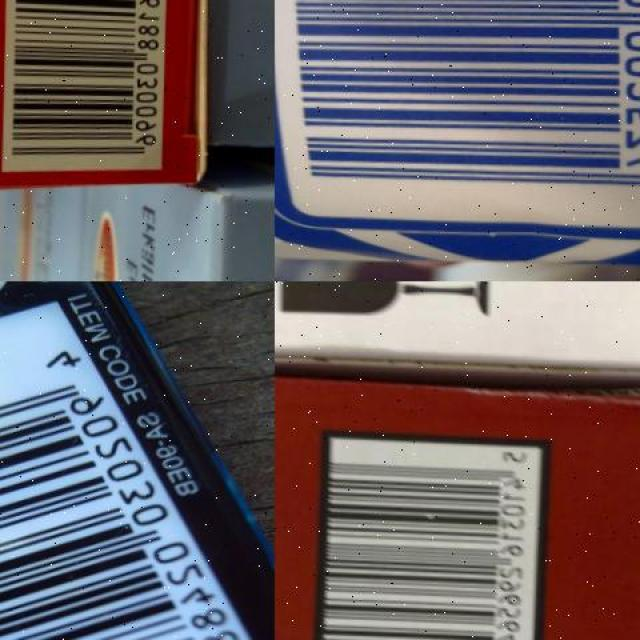Barcode: (0, 289, 275, 640), (274, 0, 640, 224), (321, 436, 540, 640), (2, 0, 168, 173)
